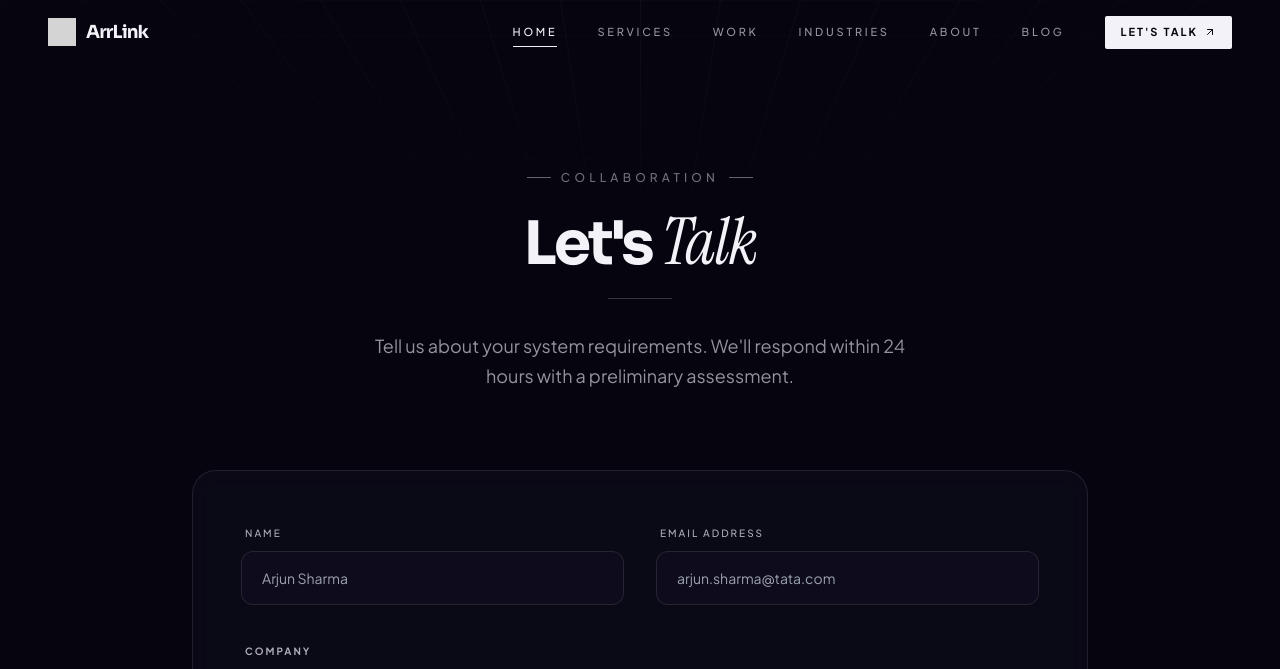
Test: Contact Page › submits form successfully
Step 1. Type "Test User" into the field with placeholder "Arjun Sharma" → (432, 578), box 241,551 -> 624,605
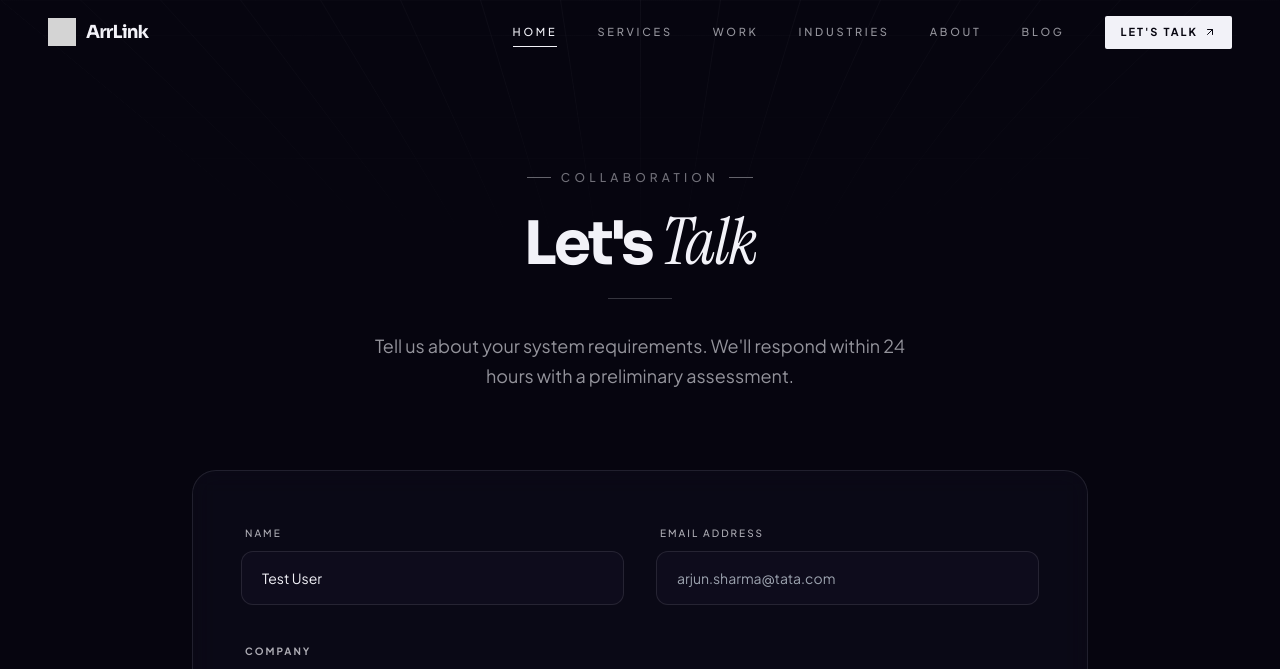
Step 2. Type "test@example.com" into the field with placeholder "arjun.sharma@tata.com" → (848, 578), box 656,551 -> 1039,605
(page scrolled)
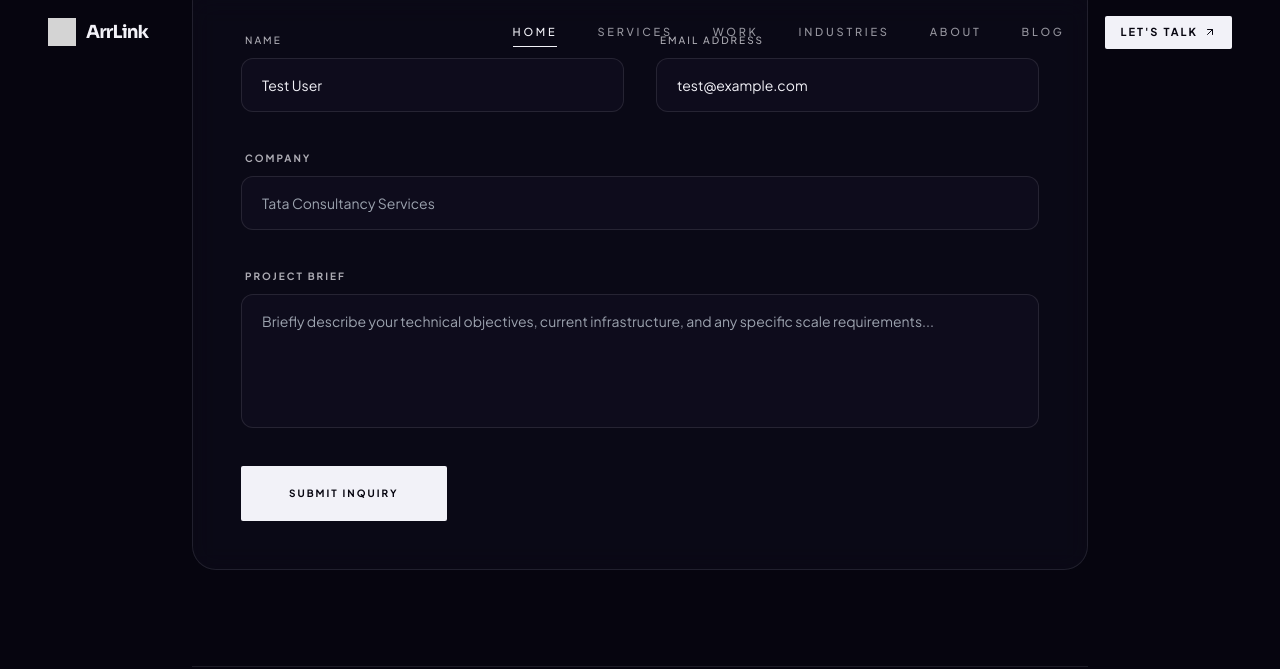
Step 3. Replace the text in the text box with placeholder "Briefly describe your technical objectives" with "Test message content here" → (640, 361), box 241,294 -> 1039,428
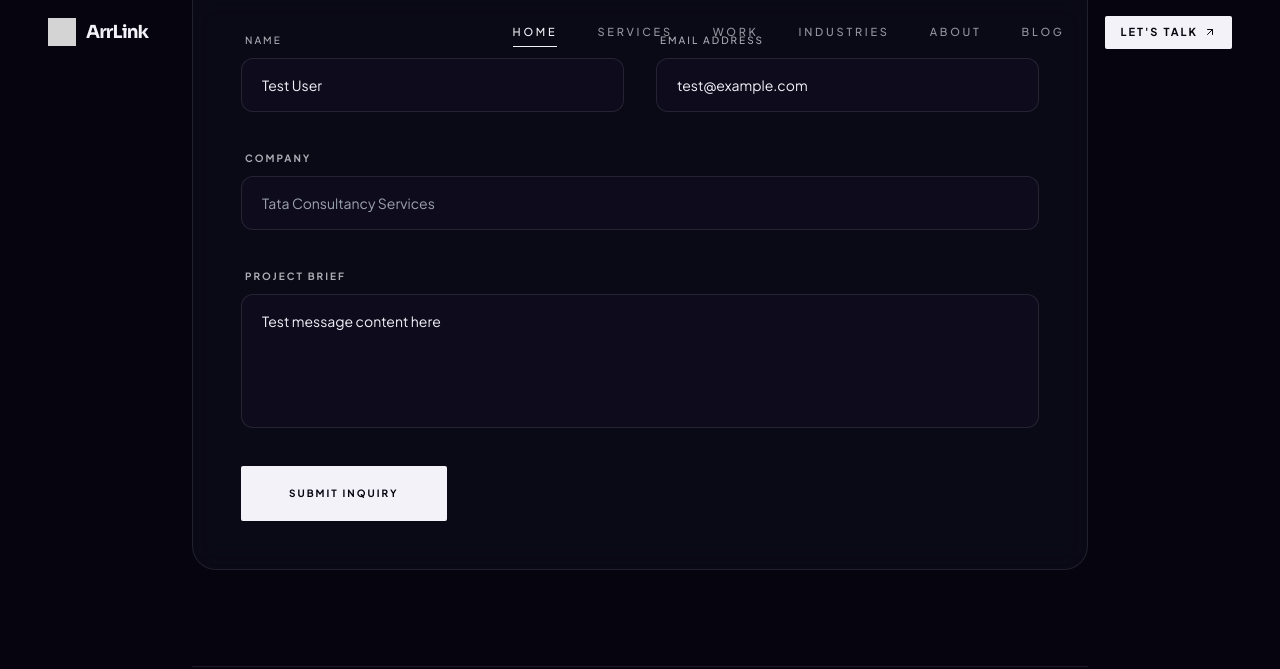
Step 4. Click the button "Submit Inquiry" → (344, 493), box 241,466 -> 446,521
(page scrolled)
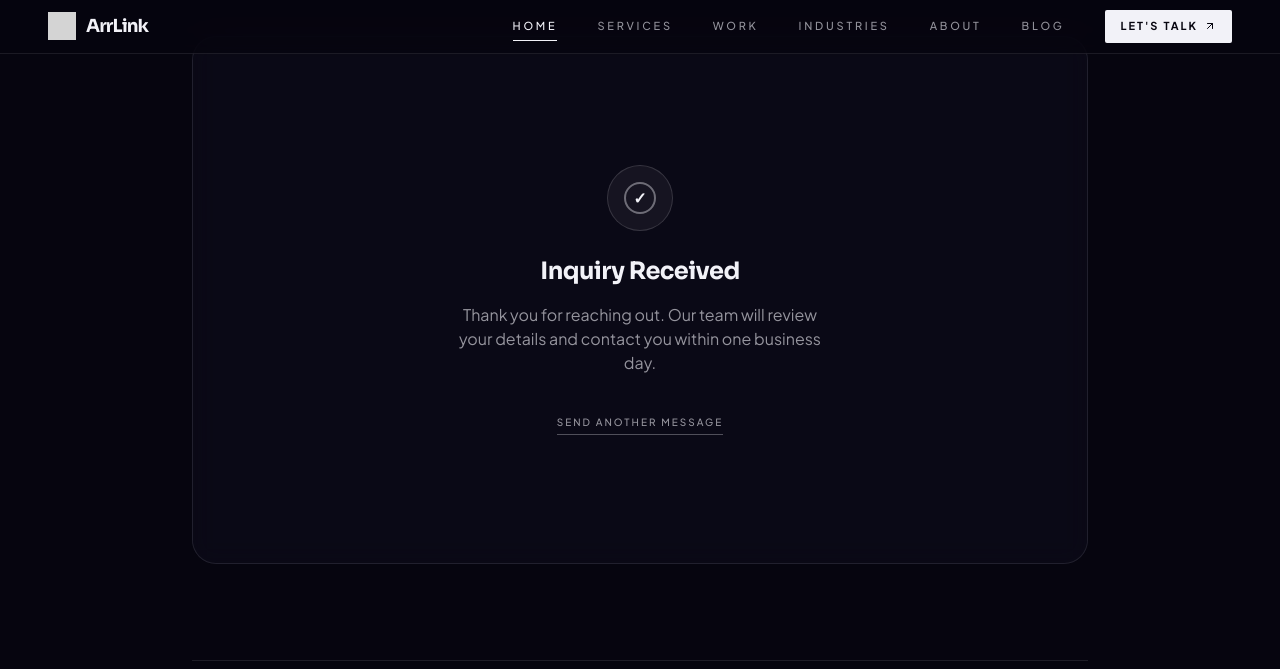
Check: the heading "Inquiry Received" is shown, box 540,256 -> 740,286
